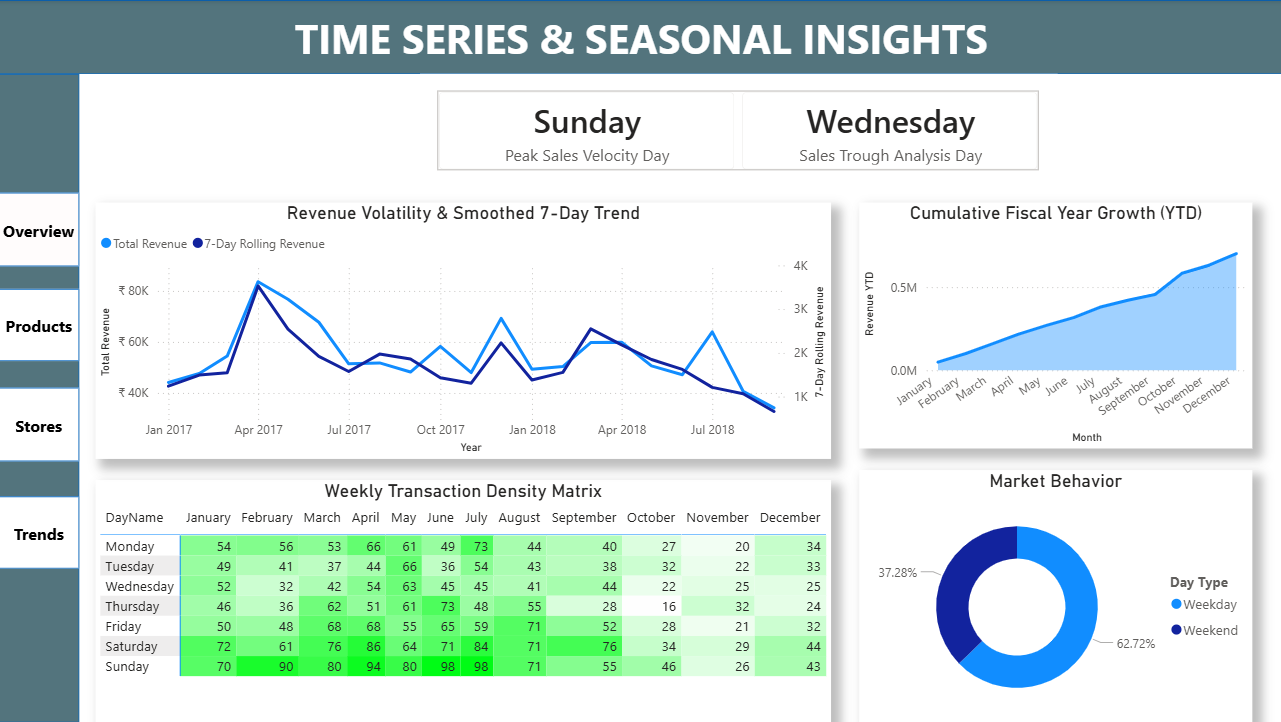

What the dashboard file says about the page in this screenshot:
{"tool":"powerbi","page":{"name":"Trends","canvas":[1280,720],"ordinal":3},"visuals":[{"type":"pivotTable","title":"Weekly Transaction Density Matrix","fields":{"Columns":["sales_new.Date.Variation.Date Hierarchy.Month"],"Values":["DAX.Total Transactions"],"Rows":["sales_new.DayName"]},"box":[97.2,477.3,732.2,243.1],"z":0},{"type":"donutChart","title":"Market Behavior","fields":{"Category":["sales_new.Day Type"],"Y":["DAX.Total Revenue"]},"box":[857.5,467.5,391.2,252.5],"z":1000},{"type":"areaChart","title":"Cumulative Fiscal Year Growth (YTD)","fields":{"Y":["DAX.Revenue YTD"],"Category":["sales_new.Date.Variation.Date Hierarchy.Month"]},"box":[857.5,201.2,391.2,245],"z":2000},{"type":"shape","box":[0,74,81.1,645.8],"z":3000},{"type":"shape","box":[0,0,1280.3,74],"z":4000},{"type":"lineChart","title":"Revenue Volatility & Smoothed 7-Day Trend","fields":{"Y":["DAX.Total Revenue"],"Category":["sales_new.Date.Variation.Date Hierarchy.Year","sales_new.Date.Variation.Date Hierarchy.Month"],"Y2":["DAX.7-Day Rolling Revenue"]},"box":[97.2,201.8,732.2,254.9],"z":5000},{"type":"cardVisual","fields":{"Data":["DAX.Best Selling Day","DAX.Worst Selling Day"]},"box":[419.9,73.7,633.5,113.4],"z":6000},{"type":"shape","box":[0,191.5,81,73.7],"z":7000},{"type":"shape","box":[0,287.3,81,72.2],"z":8000},{"type":"shape","box":[0,386,81,73.7],"z":9000},{"type":"shape","box":[0,493.6,81,72.2],"z":10000}]}

Visuals, with their boxes on the page's 1280x720 design canvas (x1, y1, x2, y2). These are canvas units, not pixel positions in the 1281x722 screenshot, which may show the page scaled, cropped or inside an application window:
"Weekly Transaction Density Matrix" pivotTable: BBox(97, 477, 829, 720)
"Market Behavior" donutChart: BBox(858, 468, 1249, 720)
"Cumulative Fiscal Year Growth (YTD)" areaChart: BBox(858, 201, 1249, 446)
shape: BBox(0, 74, 81, 720)
shape: BBox(0, 0, 1280, 74)
"Revenue Volatility & Smoothed 7-Day Trend" lineChart: BBox(97, 202, 829, 457)
cardVisual - DAX.Best Selling Day x DAX.Worst Selling Day: BBox(420, 74, 1053, 187)
shape: BBox(0, 192, 81, 265)
shape: BBox(0, 287, 81, 360)
shape: BBox(0, 386, 81, 460)
shape: BBox(0, 494, 81, 566)
